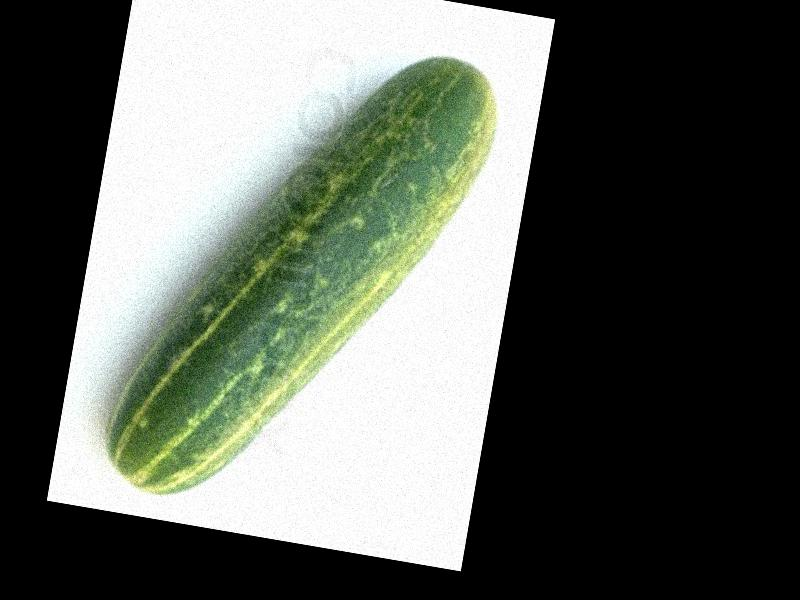Cucumber: (99, 13, 508, 543)
